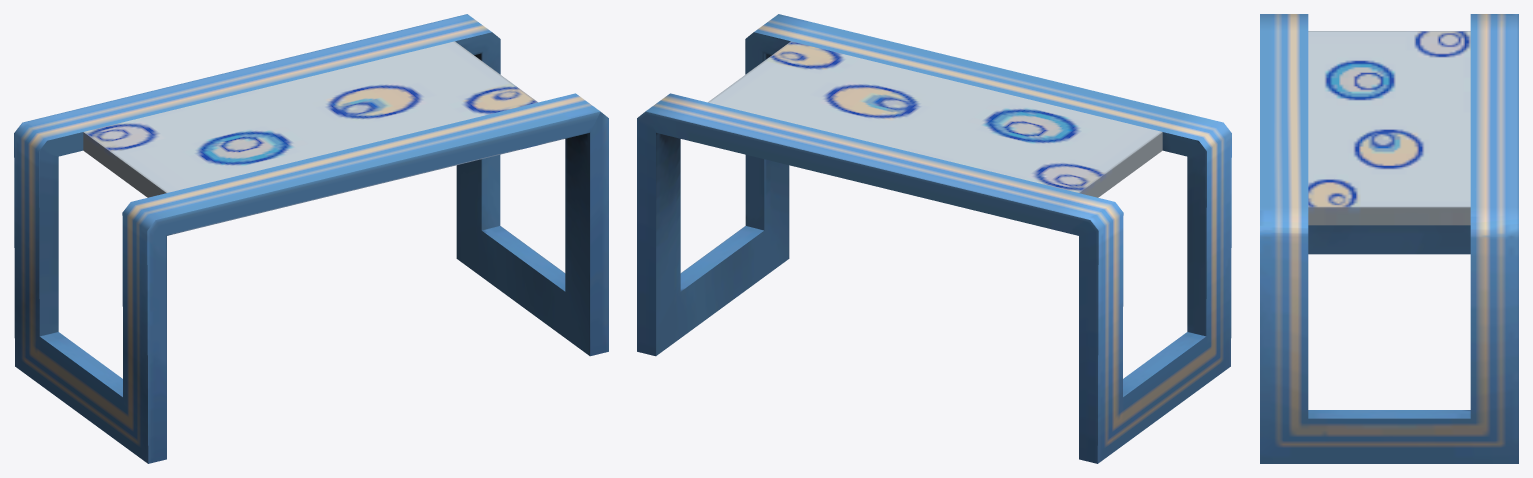
File: furni_0200506.FBX
The picture shows the model from 3 angles, left to right: view 1: azimuth 30°, elevation 25°; view 2: azimuth 150°, elevation 25°; view 3: azimuth 270°, elevation 25°; orthographic projection. The views are drawn at different scales.
Visible parts, largest first — view 1: furni_0200506; view 2: furni_0200506; view 3: furni_0200506.
Boxes of the visible parts, left/top/right/bottom form: furni_0200506: left=14, top=14, right=608, bottom=463; furni_0200506: left=637, top=14, right=1231, bottom=463; furni_0200506: left=1260, top=14, right=1518, bottom=463.
Size of the model in its own units: 160 by 80.19 by 80.
1 material, 1 textured.
